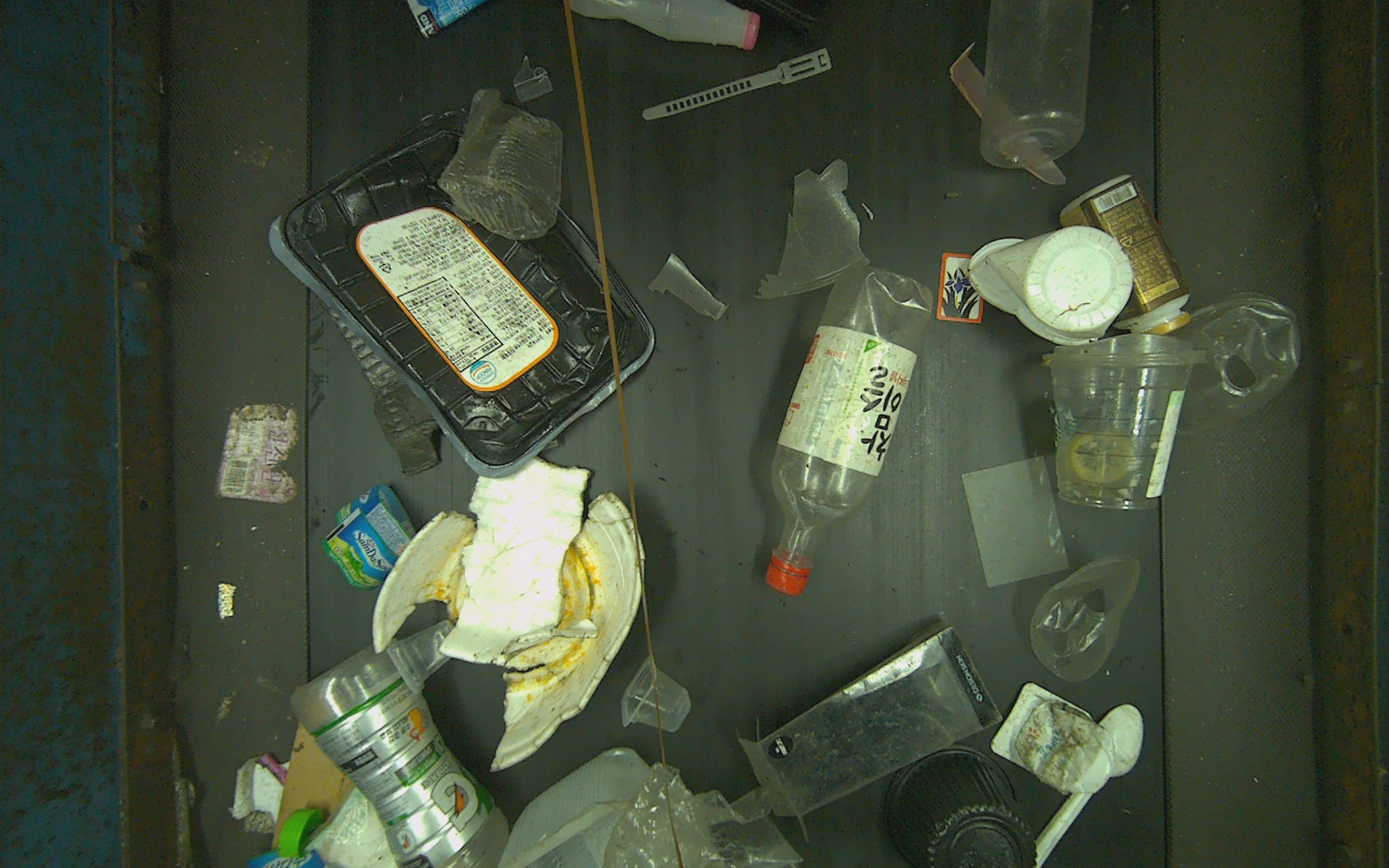PET: (767, 267, 931, 593), (291, 639, 506, 868)
PET-C: (1044, 335, 1205, 508), (439, 91, 561, 236), (1171, 293, 1298, 432), (1031, 555, 1138, 680), (624, 656, 689, 730)
PP-B: (281, 111, 653, 465)
PS-W: (1062, 176, 1189, 334), (969, 227, 1131, 344)
